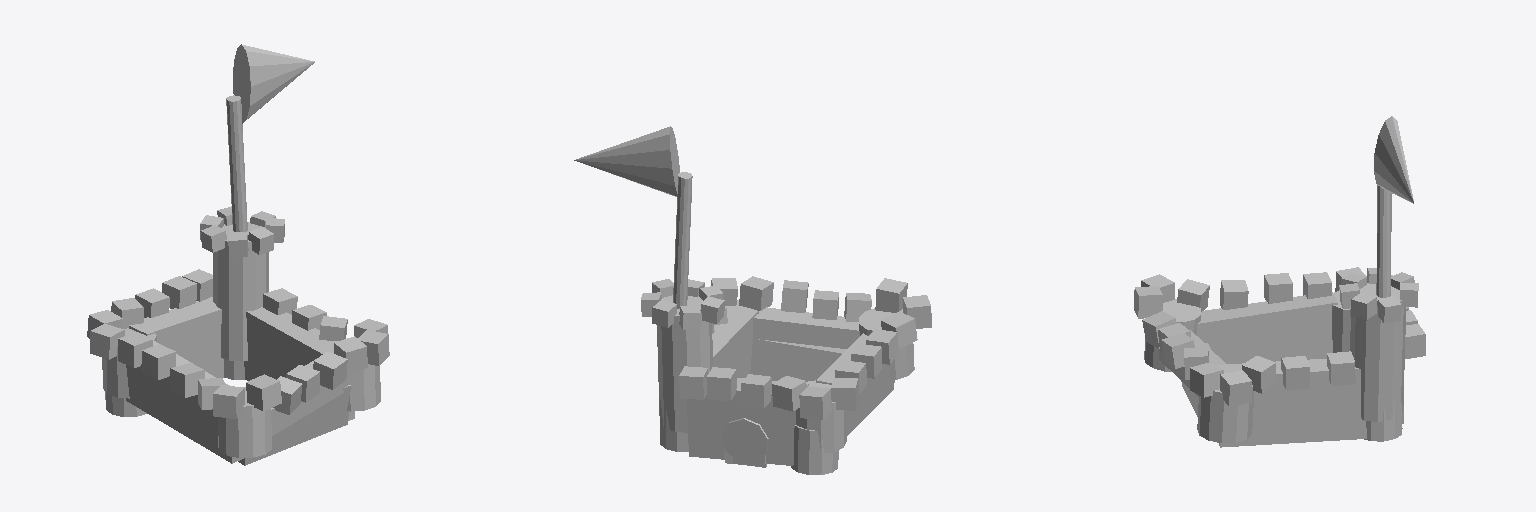
File: castle.obj
3 renders of one model, left to right at view 1: azimuth 30°, elevation 25°; view 2: azimuth 150°, elevation 25°; view 3: azimuth 270°, elevation 25°, orthographic.
Visible parts, largest first — view 1: group[number redacted], group[number redacted], group[number redacted], group[number redacted], group[number redacted], group[number redacted], group[number redacted], group[number redacted], group[number redacted], group[number redacted], group[number redacted], group[number redacted] (+21 smaller); view 2: group[number redacted], group[number redacted], group[number redacted], group[number redacted], group[number redacted], group[number redacted], group[number redacted], group[number redacted], group[number redacted], group[number redacted], group[number redacted], group[number redacted] (+19 smaller); view 3: group[number redacted], group[number redacted], group[number redacted], group[number redacted], group[number redacted], group[number redacted], group[number redacted], group[number redacted], group[number redacted], group[number redacted], group[number redacted], group[number redacted] (+13 smaller).
Boxes of the visible parts, x1=… form: group[number redacted]: x1=213, y1=222, x2=268, y2=361; group[number redacted]: x1=244, y1=307, x2=354, y2=420; group[number redacted]: x1=129, y1=297, x2=223, y2=378; group[number redacted]: x1=126, y1=338, x2=243, y2=463; group[number redacted]: x1=233, y1=44, x2=314, y2=123; group[number redacted]: x1=218, y1=387, x2=271, y2=457; group[number redacted]: x1=238, y1=385, x2=350, y2=465; group[number redacted]: x1=226, y1=95, x2=247, y2=231; group[number redacted]: x1=347, y1=364, x2=380, y2=411; group[number redacted]: x1=271, y1=359, x2=350, y2=435; group[number redacted]: x1=102, y1=328, x2=156, y2=398; group[number redacted]: x1=246, y1=374, x2=281, y2=410; group[number redacted]: x1=687, y1=378, x2=808, y2=465; group[number redacted]: x1=657, y1=295, x2=712, y2=432; group[number redacted]: x1=574, y1=126, x2=679, y2=196; group[number redacted]: x1=742, y1=306, x2=859, y2=348; group[number redacted]: x1=750, y1=339, x2=846, y2=381; group[number redacted]: x1=712, y1=306, x2=758, y2=377; group[number redacted]: x1=673, y1=172, x2=692, y2=308; group[number redacted]: x1=816, y1=333, x2=894, y2=435; group[number redacted]: x1=722, y1=418, x2=768, y2=462; group[number redacted]: x1=791, y1=425, x2=838, y2=474; group[number redacted]: x1=796, y1=380, x2=846, y2=453; group[number redacted]: x1=859, y1=308, x2=914, y2=380; group[number redacted]: x1=1196, y1=292, x2=1337, y2=363; group[number redacted]: x1=1216, y1=359, x2=1366, y2=447; group[number redacted]: x1=1350, y1=283, x2=1405, y2=421; group[number redacted]: x1=1197, y1=385, x2=1253, y2=442; group[number redacted]: x1=1374, y1=116, x2=1413, y2=203; group[number redacted]: x1=1376, y1=185, x2=1391, y2=297; group[number redacted]: x1=1144, y1=299, x2=1200, y2=371; group[number redacted]: x1=1220, y1=370, x2=1251, y2=406; group[number redacted]: x1=1190, y1=362, x2=1223, y2=397; group[number redacted]: x1=1281, y1=356, x2=1309, y2=390; group[number redacted]: x1=1242, y1=356, x2=1276, y2=393; group[number redacted]: x1=1332, y1=290, x2=1350, y2=352.
Size of the model in its own units: 0.4781 by 0.5766 by 0.4761.